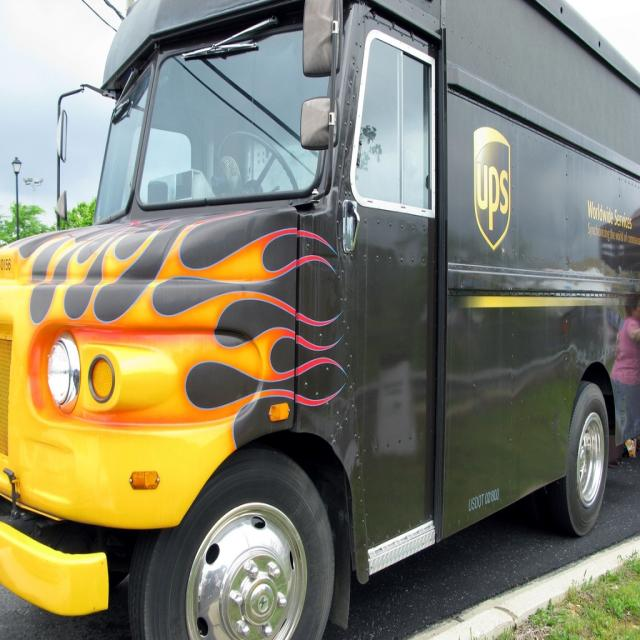ups: (474, 124, 514, 251)
